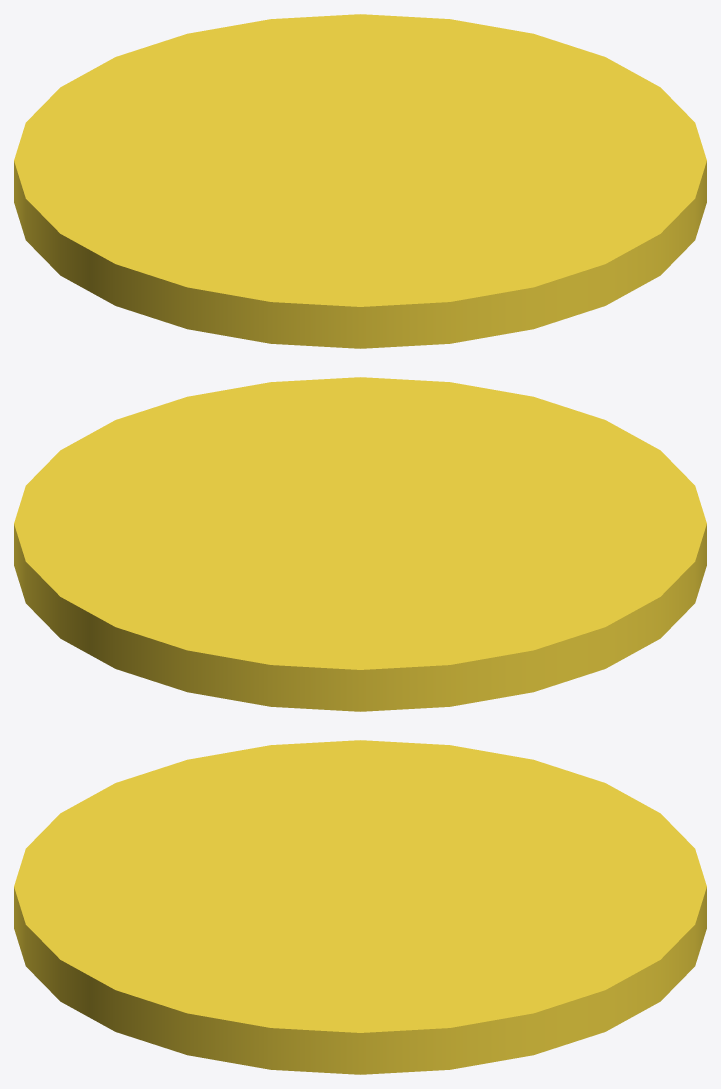
The model's file is coin6.fbx.
3 views of the same model, one above another, from view 1: azimuth 30°, elevation 25°; view 2: azimuth 150°, elevation 25°; view 3: azimuth 270°, elevation 25° (orthographic).
Visible parts, largest first — view 1: Cylinder; view 2: Cylinder; view 3: Cylinder.
Boxes of the visible parts, x1,y1,x2,y2 form: Cylinder: [14, 14, 706, 348]; Cylinder: [14, 377, 706, 711]; Cylinder: [14, 740, 706, 1074].
Bounding box in the file's own units: 120 × 7.99 × 120.
Materials: 1 (1 with a texture image).
